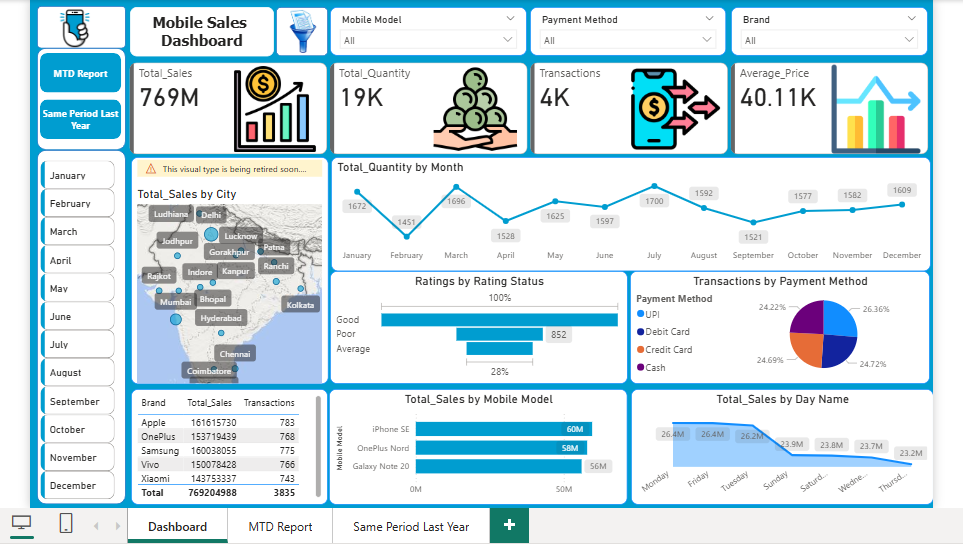

The page's visual inventory and layout, read from the dashboard file:
{"tool":"powerbi","page":{"name":"Dashboard","canvas":[1280,720],"ordinal":0},"visuals":[{"type":"shape","box":[10,8.6,125.9,60.1],"z":0},{"type":"image","box":[15.7,0,95.8,80.1],"z":1000},{"type":"shape","box":[10,68.6,125.9,144.4],"z":2000},{"type":"shape","box":[10,213.1,125.9,502],"z":3000},{"type":"advancedSlicerVisual","fields":{"Values":["Custom_Calendar.Date.Variation.Date Hierarchy.Month"]},"box":[10,223.1,115.8,496.3],"z":4000},{"type":"cardVisual","fields":{"Data":["Sales_Data.Total_Sales","Sales_Data.Total_Quantity","Sales_Data.Transactions","Sales_Data.Average_Price"]},"box":[135.9,82.9,1144.1,140.2],"z":5000},{"type":"slicer","fields":{"Values":["Sales_Data.Mobile Model"]},"box":[425.1,10,279,69.4],"z":6000},{"type":"slicer","fields":{"Values":["Sales_Data.Payment Method"]},"box":[708.7,9.9,277.8,69.4],"z":7000},{"type":"slicer","fields":{"Values":["Sales_Data.Brand"]},"box":[993.2,10,279.5,69.4],"z":8000},{"type":"shape","box":[348.7,9.9,73.7,69.4],"z":9000},{"type":"image","box":[294.3,4.6,182.9,77.7],"z":10000},{"type":"textbox","box":[141.1,9.9,203.6,69.6],"z":11000},{"type":"map","fields":{"Category":["Sales_Data.City"],"Size":["Sales_Data.Total_Sales"]},"box":[143,223.1,280.3,321.8],"z":12000},{"type":"lineChart","fields":{"Category":["Custom_Calendar.Date.Variation.Date Hierarchy.Month"],"Y":["Sales_Data.Total_Quantity"]},"box":[426.2,223.1,849.5,161.6],"z":13000},{"type":"funnel","title":"Ratings by Rating Status","fields":{"Y":["CountNonNull(Sales_Data.Customer Ratings)"],"Category":["Sales_Data.Rating Status"]},"box":[424.8,384.7,421.9,160.2],"z":14000},{"type":"pieChart","fields":{"Category":["Sales_Data.Payment Method"],"Y":["Sales_Data.Transactions"]},"box":[850.9,384.7,424.8,160.2],"z":15000},{"type":"clusteredBarChart","fields":{"Category":["Sales_Data.Mobile Model"],"Y":["Sales_Data.Total_Sales"]},"box":[424.3,551.3,422.6,164.3],"z":16000},{"type":"areaChart","fields":{"Y":["Sales_Data.Total_Sales"],"Category":["Custom_Calendar.Day Name"]},"box":[851.3,551.3,428.7,164.3],"z":17000},{"type":"tableEx","fields":{"Values":["Sales_Data.Brand","Sales_Data.Total_Sales","Sales_Data.Transactions"]},"box":[143.4,551.3,279.4,164.1],"z":18000},{"type":"pageNavigator","box":[14.3,75.8,115.8,123],"z":19000}]}

Visuals, with their boxes on the page's 1280x720 design canvas (x1, y1, x2, y2). These are canvas units, not pixel positions in the 963x544 screenshot, which may show the page scaled, cropped or inside an application window:
shape: x1=10 y1=9 x2=136 y2=69
image: x1=16 y1=0 x2=112 y2=80
shape: x1=10 y1=69 x2=136 y2=213
shape: x1=10 y1=213 x2=136 y2=715
advancedSlicerVisual - Custom_Calendar.Date.Variation.Date Hierarchy.Month: x1=10 y1=223 x2=126 y2=719
cardVisual - Sales_Data.Total_Sales x Sales_Data.Total_Quantity: x1=136 y1=83 x2=1280 y2=223
slicer - Sales_Data.Mobile Model: x1=425 y1=10 x2=704 y2=79
slicer - Sales_Data.Payment Method: x1=709 y1=10 x2=986 y2=79
slicer - Sales_Data.Brand: x1=993 y1=10 x2=1273 y2=79
shape: x1=349 y1=10 x2=422 y2=79
image: x1=294 y1=5 x2=477 y2=82
textbox: x1=141 y1=10 x2=345 y2=80
map - Sales_Data.City x Sales_Data.Total_Sales: x1=143 y1=223 x2=423 y2=545
lineChart - Custom_Calendar.Date.Variation.Date Hierarchy.Month x Sales_Data.Total_Quantity: x1=426 y1=223 x2=1276 y2=385
"Ratings by Rating Status" funnel: x1=425 y1=385 x2=847 y2=545
pieChart - Sales_Data.Payment Method x Sales_Data.Transactions: x1=851 y1=385 x2=1276 y2=545
clusteredBarChart - Sales_Data.Mobile Model x Sales_Data.Total_Sales: x1=424 y1=551 x2=847 y2=716
areaChart - Sales_Data.Total_Sales x Custom_Calendar.Day Name: x1=851 y1=551 x2=1280 y2=716
tableEx - Sales_Data.Brand x Sales_Data.Total_Sales: x1=143 y1=551 x2=423 y2=715
pageNavigator: x1=14 y1=76 x2=130 y2=199
